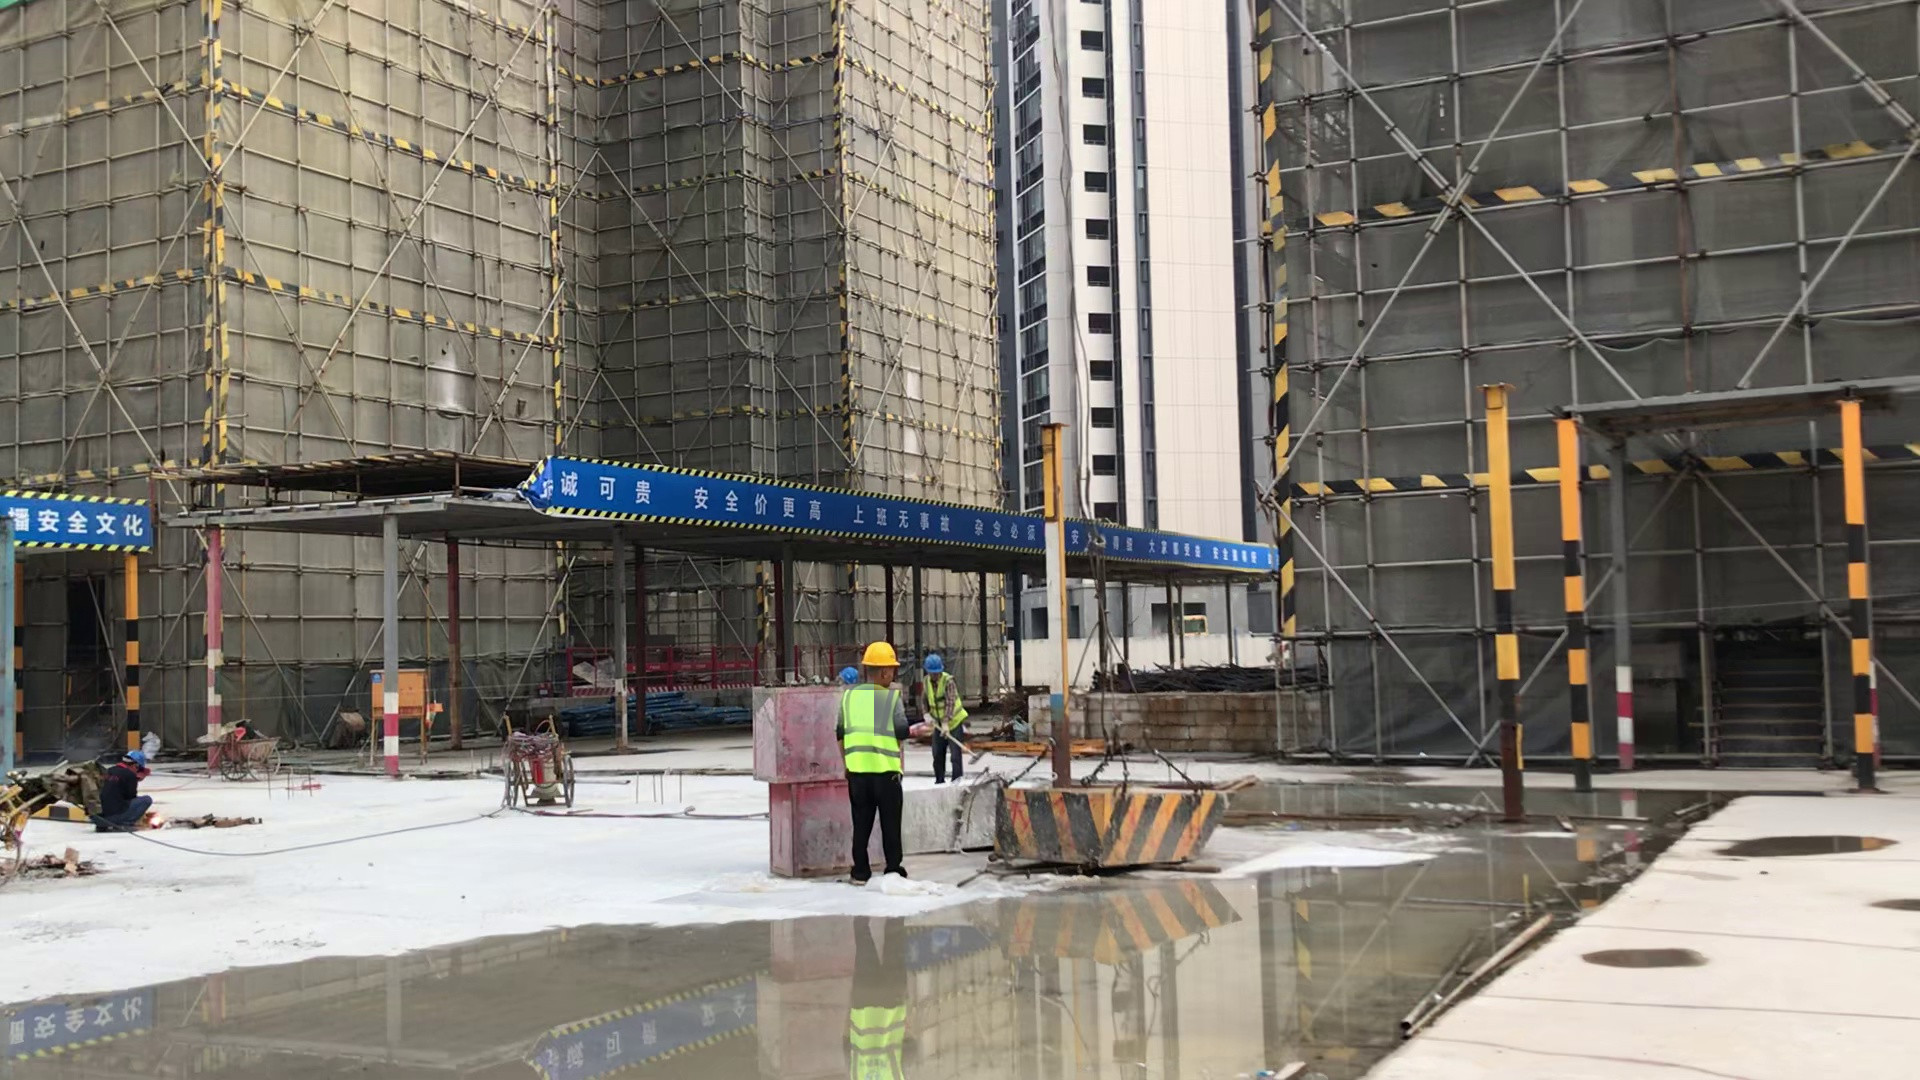ebox: (365, 665, 431, 712)
fence: (567, 645, 863, 697)
handcart: (501, 704, 581, 816)
helmet: (860, 642, 902, 666), (924, 654, 943, 672), (840, 666, 857, 685)
hopper: (996, 784, 1229, 869), (905, 776, 1008, 853)
person: (838, 643, 911, 881), (924, 656, 969, 785)
slogan: (535, 450, 1278, 577), (6, 488, 154, 557)
vest: (842, 684, 904, 774), (924, 674, 967, 732)
